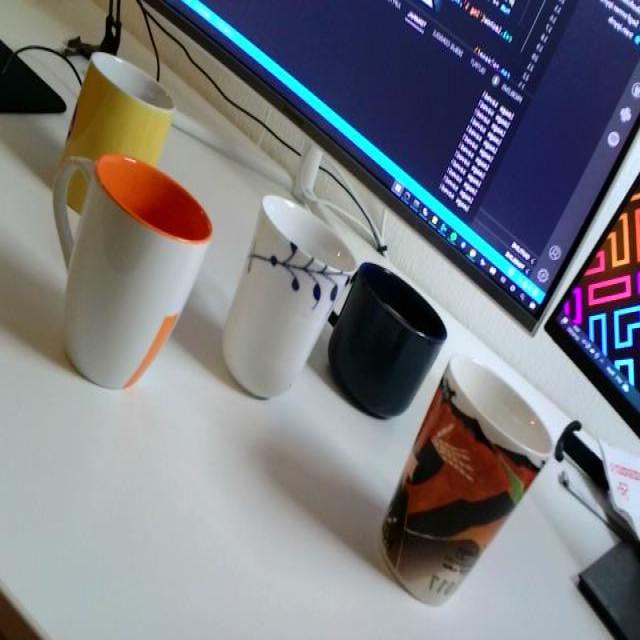cup: (361, 353, 564, 605), (34, 150, 221, 402), (217, 177, 365, 405), (42, 22, 182, 216), (325, 260, 454, 437)
